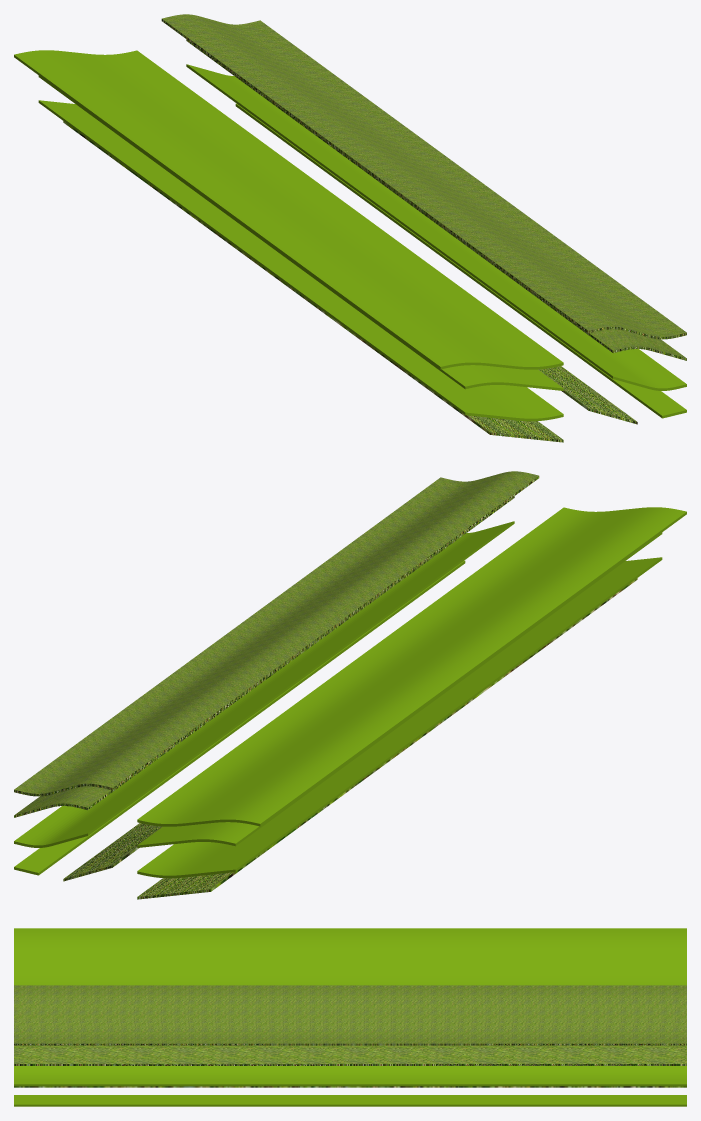
The model's file is Floors.glb.
3 views of the same model, one above another, from view 1: azimuth 30°, elevation 25°; view 2: azimuth 150°, elevation 25°; view 3: azimuth 270°, elevation 25° (orthographic). The views are drawn at different scales.
Parts seen in each view (by area): view 1: Long-Ramp-EaseInOut-F-col, Ramp-EaseInOut-F-col, Long-Ramp-EaseIn-F-col, Ramp-EaseIn-F-col, Long-Ramp-EaseOut-F-col, Straight-F-col, Long-Ramp-F-col, Ramp-EaseOut-F-col, Ramp-F-col; view 2: Long-Ramp-EaseInOut-F-col, Ramp-EaseInOut-F-col, Long-Ramp-EaseIn-F-col, Ramp-EaseIn-F-col, Long-Ramp-EaseOut-F-col, Straight-F-col, Long-Ramp-F-col, Ramp-EaseOut-F-col, Ramp-F-col; view 3: Ramp-EaseInOut-F-col, Long-Ramp-EaseInOut-F-col, Ramp-EaseOut-F-col, Ramp-EaseIn-F-col, Straight-F-col, Ramp-F-col.
Boxes of the visible parts, x1,y1,x2,y2 form: Long-Ramp-EaseInOut-F-col: [14, 50, 563, 369]; Ramp-EaseInOut-F-col: [161, 14, 686, 339]; Long-Ramp-EaseIn-F-col: [38, 100, 563, 421]; Ramp-EaseIn-F-col: [186, 64, 686, 390]; Long-Ramp-EaseOut-F-col: [38, 75, 563, 390]; Straight-F-col: [235, 103, 686, 418]; Long-Ramp-F-col: [63, 121, 563, 442]; Ramp-EaseOut-F-col: [186, 39, 686, 360]; Ramp-F-col: [538, 366, 637, 424]; Long-Ramp-EaseInOut-F-col: [137, 507, 686, 826]; Ramp-EaseInOut-F-col: [14, 471, 539, 796]; Long-Ramp-EaseIn-F-col: [137, 557, 662, 878]; Ramp-EaseIn-F-col: [14, 521, 514, 847]; Long-Ramp-EaseOut-F-col: [137, 532, 662, 847]; Straight-F-col: [14, 560, 465, 875]; Long-Ramp-F-col: [137, 578, 637, 899]; Ramp-EaseOut-F-col: [14, 496, 514, 817]; Ramp-F-col: [63, 823, 162, 881]; Ramp-EaseInOut-F-col: [14, 985, 686, 1045]; Long-Ramp-EaseInOut-F-col: [14, 928, 686, 985]; Ramp-EaseOut-F-col: [14, 1045, 686, 1065]; Ramp-EaseIn-F-col: [14, 1066, 686, 1086]; Straight-F-col: [14, 1095, 686, 1106]; Ramp-F-col: [14, 1086, 686, 1087].
Size of the model in its own units: 10 by 4.1 by 30.
1 material, 1 textured.
